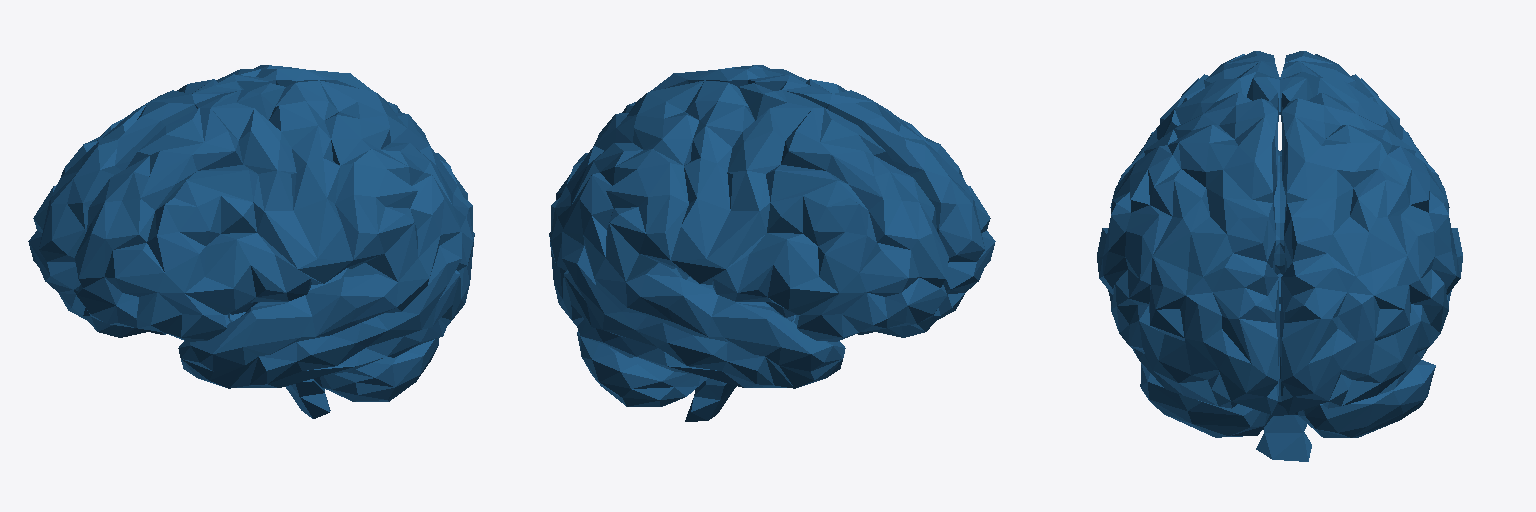
File: brain.obj
3 views of the same model, side by side, from view 1: azimuth 30°, elevation 25°; view 2: azimuth 150°, elevation 25°; view 3: azimuth 270°, elevation 25° (orthographic).
Visible parts, largest first — view 1: BRAIN.000; view 2: BRAIN.000; view 3: BRAIN.000.
Part boxes in pixels (x1,y1,x2,y2): BRAIN.000: (28, 65, 474, 418); BRAIN.000: (549, 65, 995, 421); BRAIN.000: (1097, 51, 1462, 461).
Bounding box in the file's own units: 1.73 × 1.46 × 1.39.